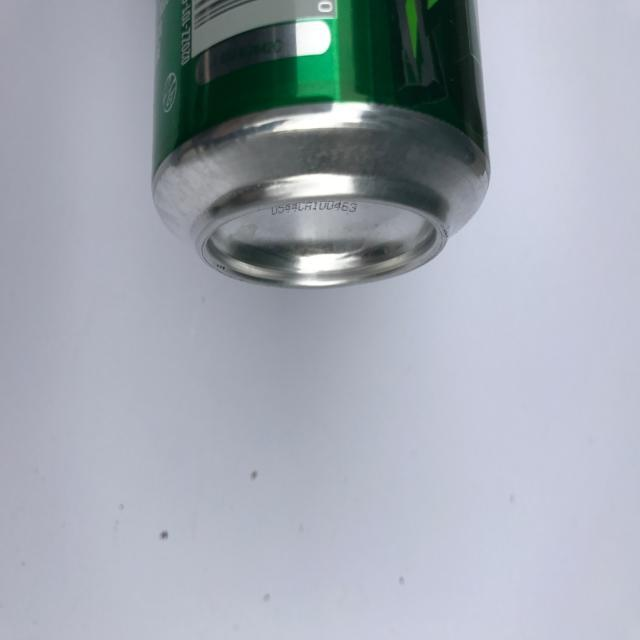metal: (152, 2, 491, 290)
